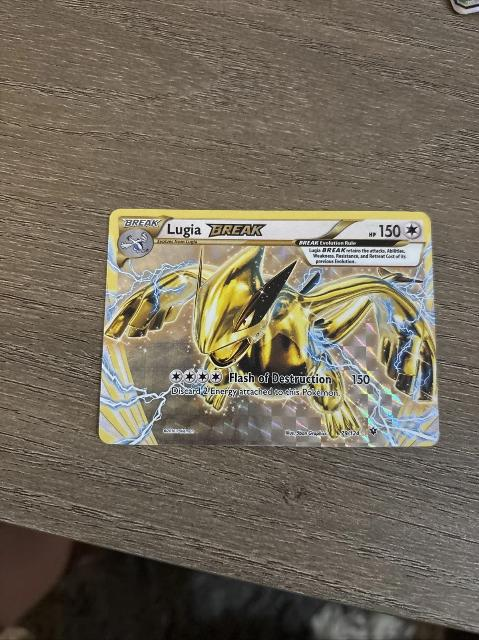Card: (96, 207, 445, 450)
Name: (163, 218, 274, 240)
